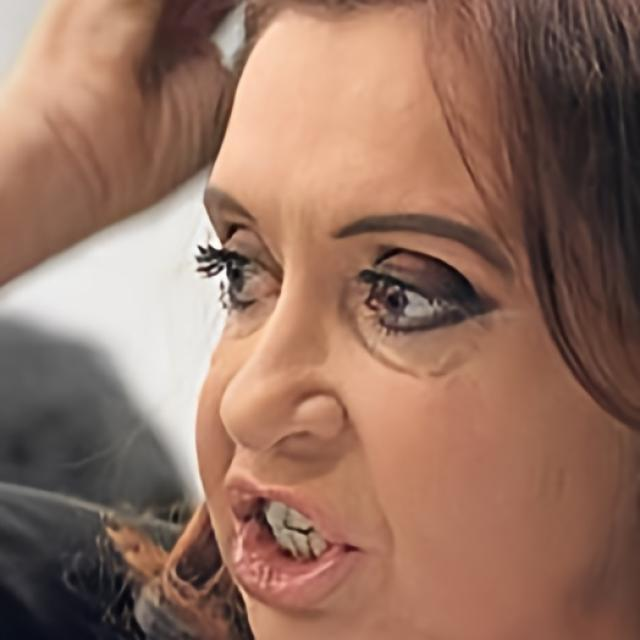anger: (192, 0, 638, 640)
